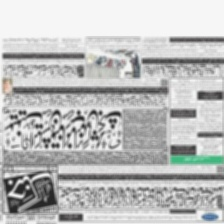news_paper: (0, 36, 223, 224)
